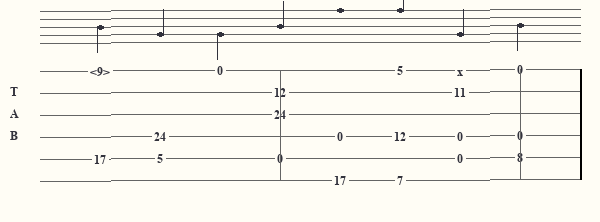0: (217, 64, 227, 77), (277, 152, 287, 165), (337, 130, 347, 143), (457, 152, 467, 165), (457, 130, 467, 143), (517, 64, 527, 77), (517, 130, 527, 143)
11: (454, 86, 470, 99)
12: (274, 86, 290, 99), (394, 130, 410, 143)
17: (94, 152, 110, 165), (334, 174, 350, 187)
24: (154, 130, 170, 143), (274, 108, 290, 121)
5: (157, 152, 167, 165), (397, 64, 407, 77)
7: (397, 174, 407, 187)
8: (517, 152, 527, 165)
harmonic: (90, 64, 114, 77)
x: (457, 65, 467, 75)
